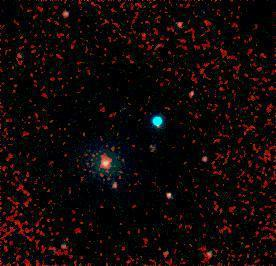star: (91, 151, 121, 181)
